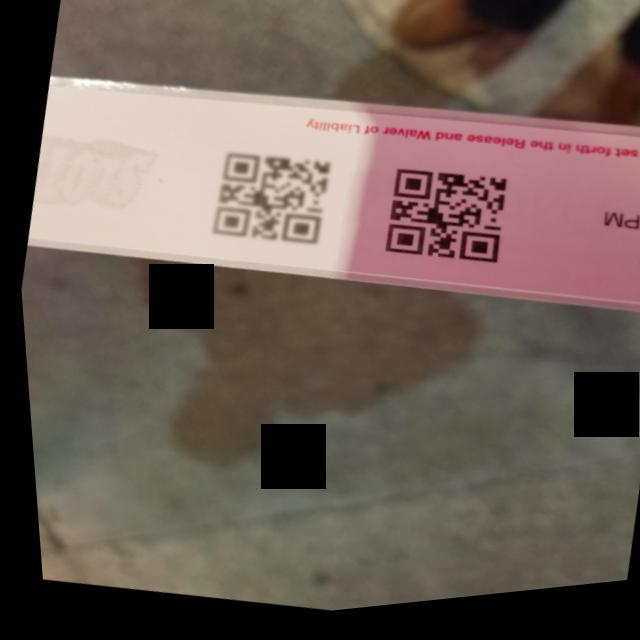QR_CODE: (358, 149, 531, 301), (191, 131, 353, 276)
